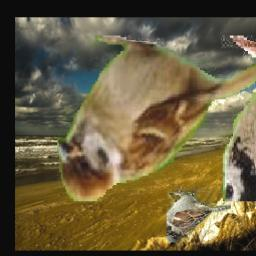Sparrow: (57, 36, 256, 201), (167, 188, 231, 243)
